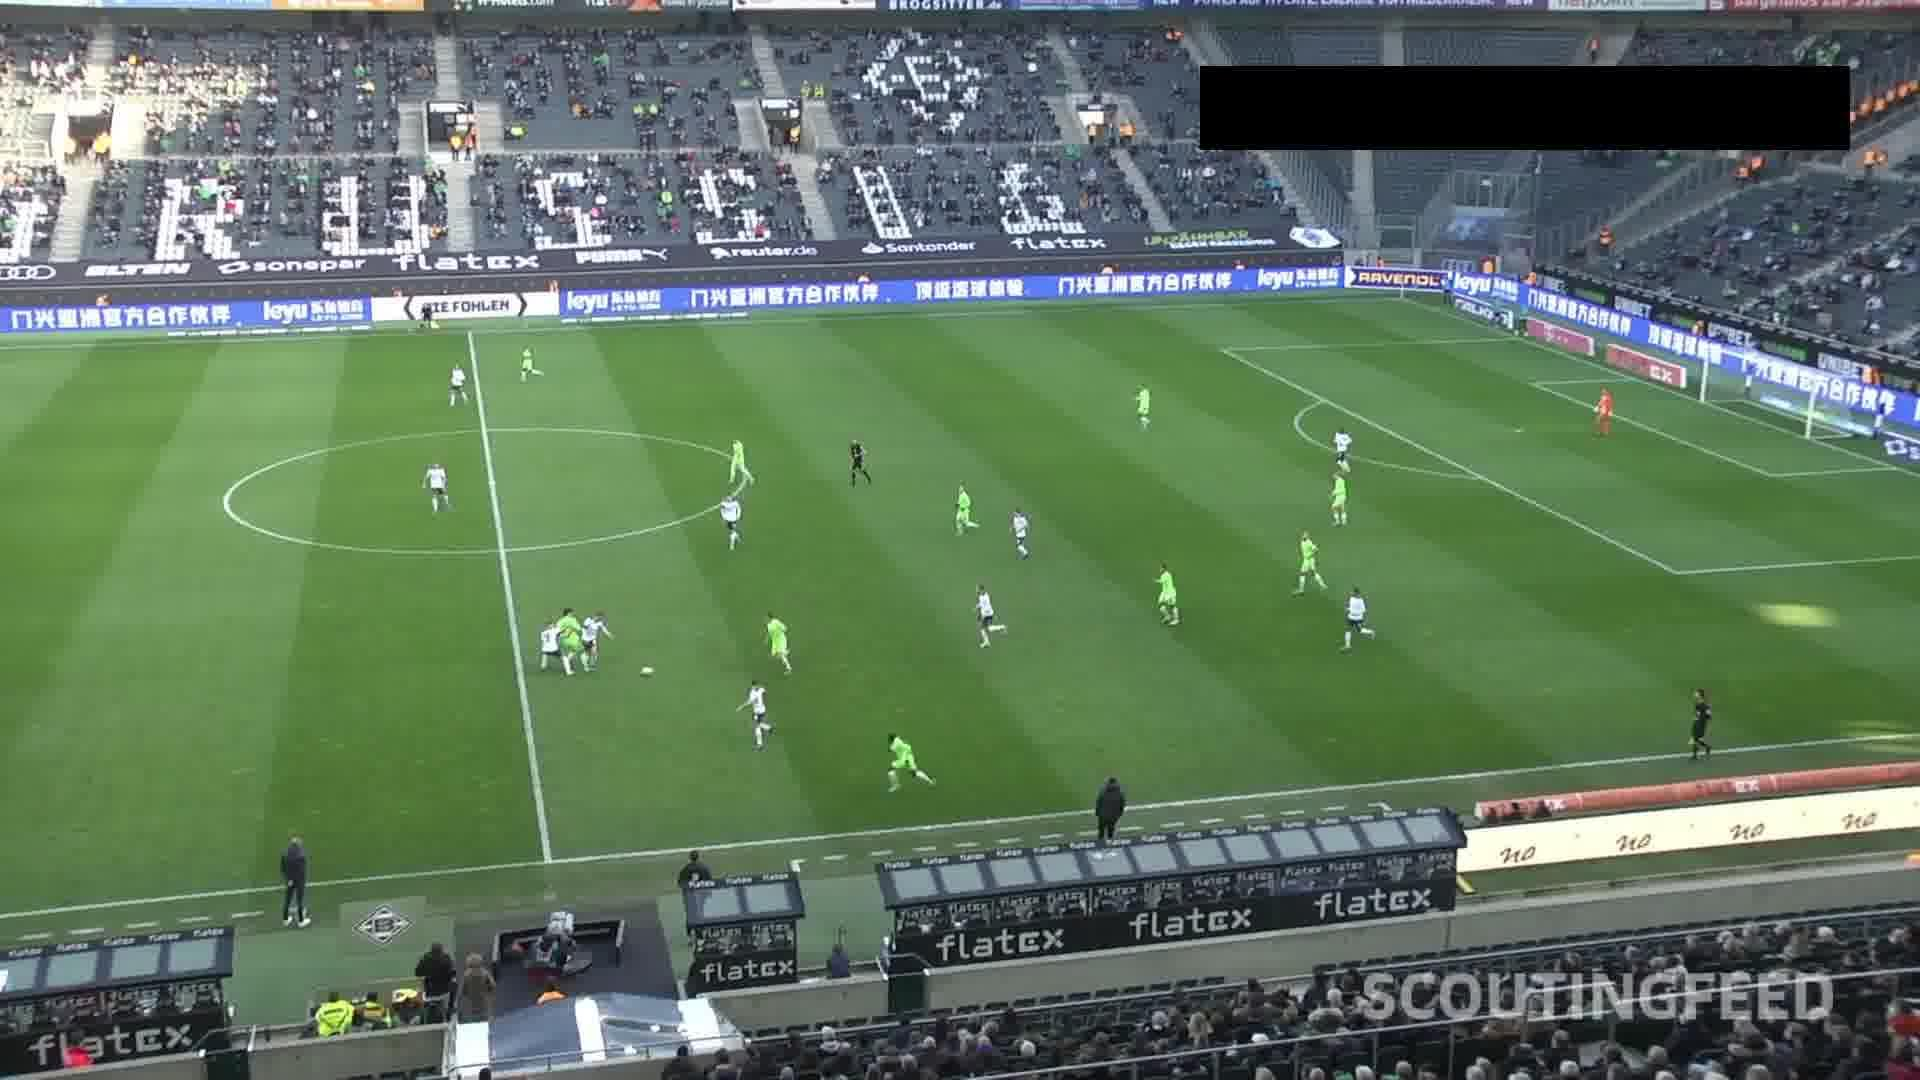football: (640, 666, 655, 679)
